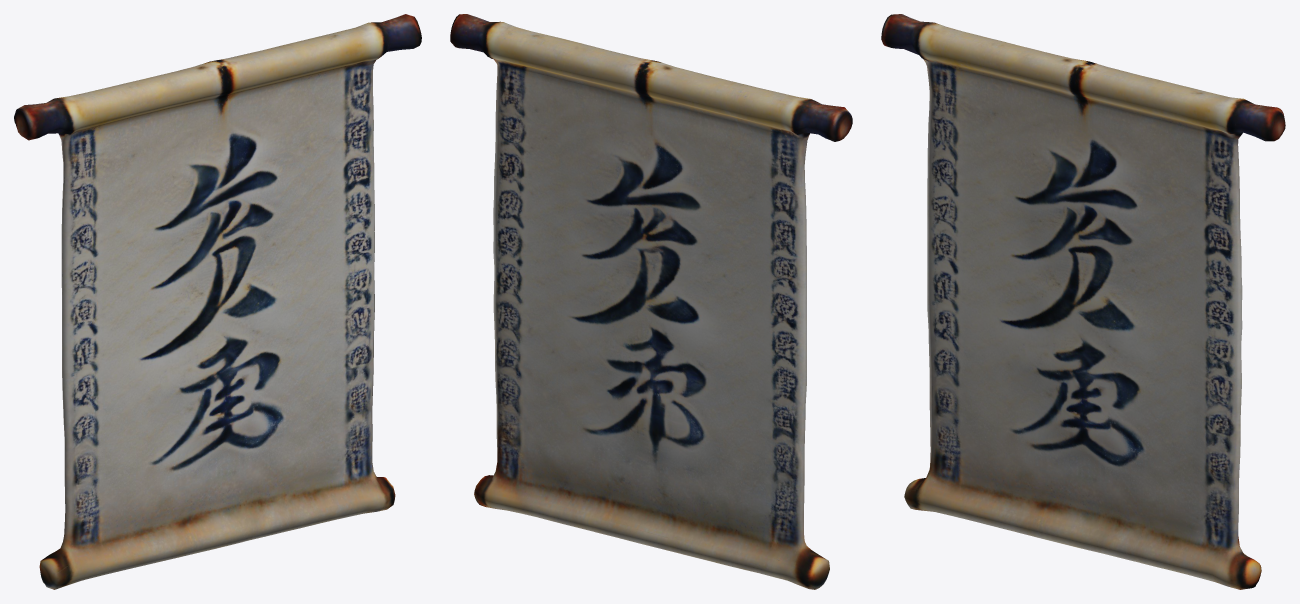
Rendered from f608fb2486ac_Japanese_traditiona.obj.
The picture shows the model from 3 angles, left to right: view 1: azimuth 30°, elevation 25°; view 2: azimuth 150°, elevation 25°; view 3: azimuth 330°, elevation 25°; orthographic projection.
Parts seen in each view (by area): view 1: mesh; view 2: mesh; view 3: mesh.
Boxes of the visible parts, left/top/right/bottom form: mesh: left=14, top=14, right=421, bottom=589; mesh: left=450, top=14, right=852, bottom=589; mesh: left=881, top=14, right=1285, bottom=589.
Bounding box in the file's own units: 0.8411 × 0.9983 × 0.0882.
Materials: 1 (1 with a texture image).
